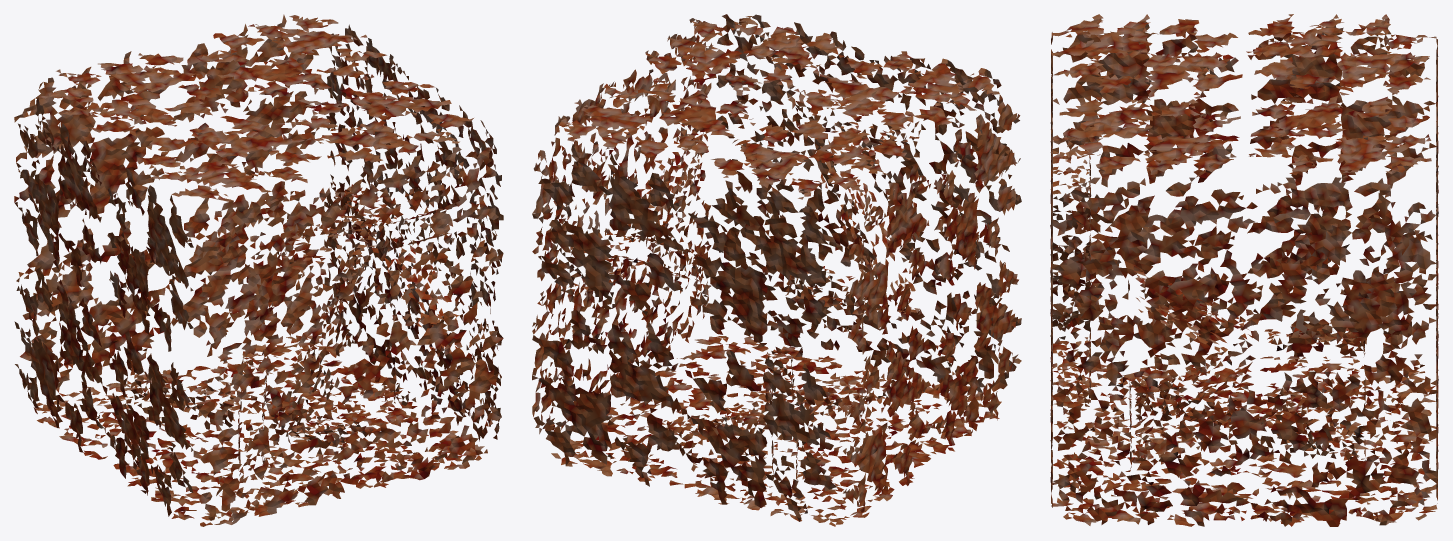
The picture shows the model from 3 angles, left to right: view 1: azimuth 30°, elevation 25°; view 2: azimuth 150°, elevation 25°; view 3: azimuth 270°, elevation 25°; orthographic projection. The views are drawn at different scales.
Size of the model in its own units: 1.13 by 1.13 by 1.13.
